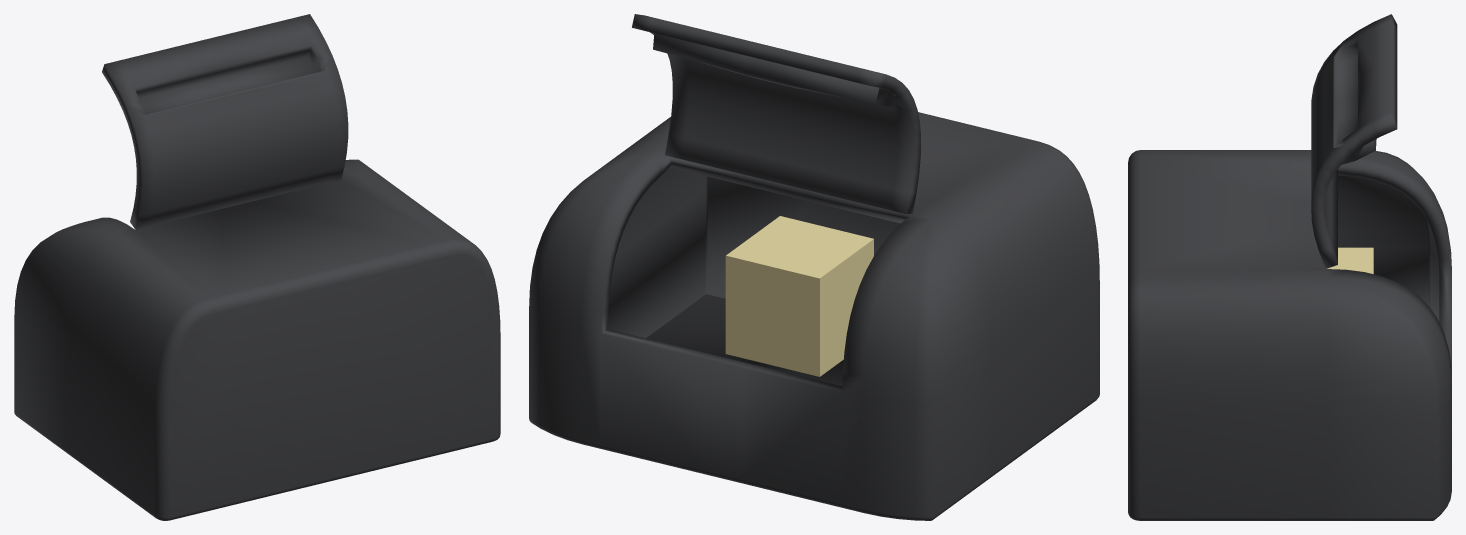
Rendered from boxminsim.glb.
The picture shows the model from 3 angles, left to right: view 1: azimuth 30°, elevation 25°; view 2: azimuth 150°, elevation 25°; view 3: azimuth 270°, elevation 25°; orthographic projection. The views are drawn at different scales.
Parts seen in each view (by area): view 1: Coons_AutoSurf; view 2: Coons_AutoSurf, Cube; view 3: Coons_AutoSurf, Cube.
Part boxes in pixels (x1,y1,x2,y2): Coons_AutoSurf: [14, 14, 500, 520]; Coons_AutoSurf: [529, 14, 1099, 520]; Cube: [725, 216, 873, 376]; Coons_AutoSurf: [1128, 14, 1451, 520]; Cube: [1327, 247, 1373, 273].
Bounding box in the file's own units: 6.63 × 6.47 × 5.15.
